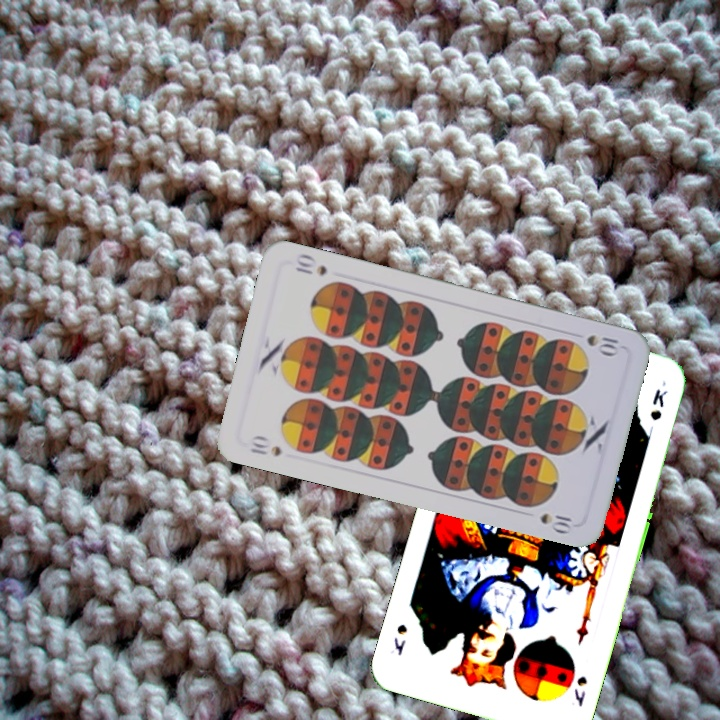S10: (583, 331, 621, 357), (246, 439, 284, 459)
SK: (570, 672, 590, 710)
